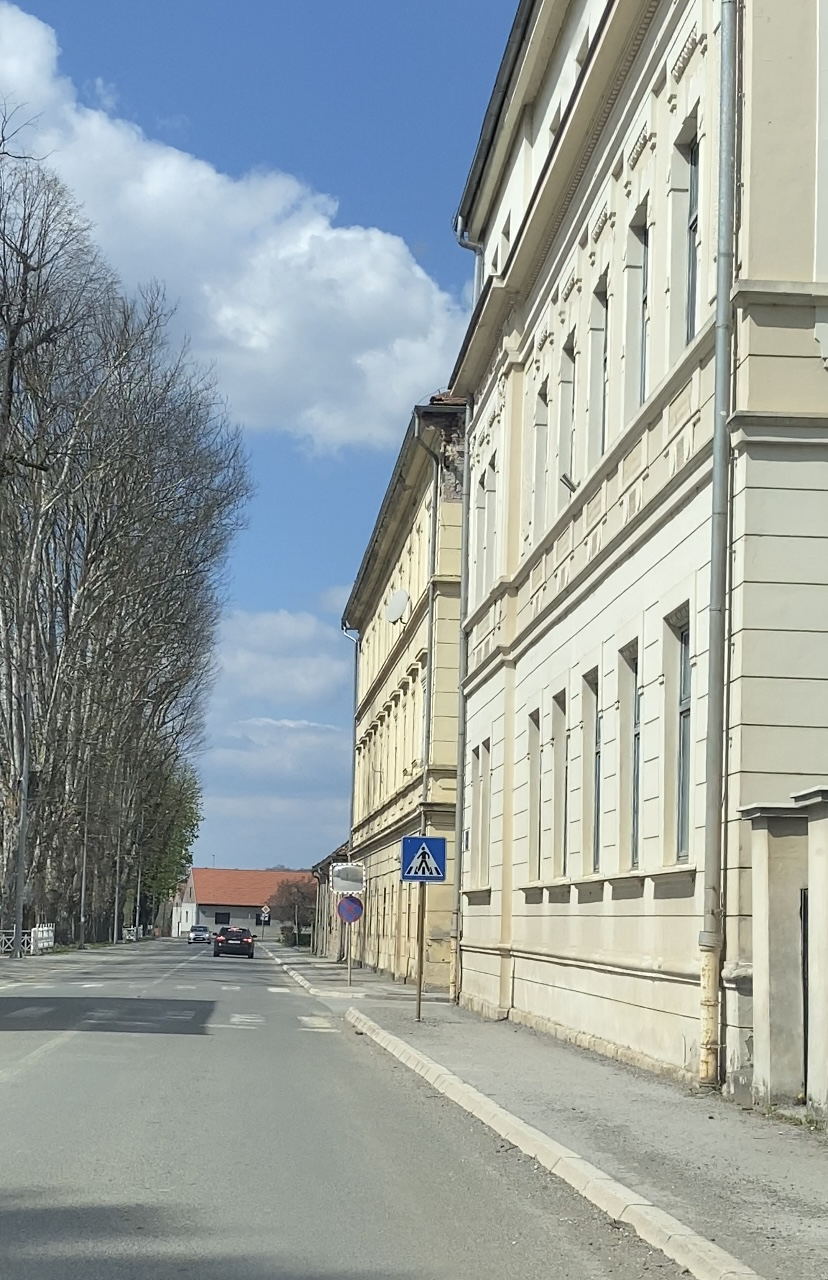Pješački prijelaz: (402, 836, 446, 881)
